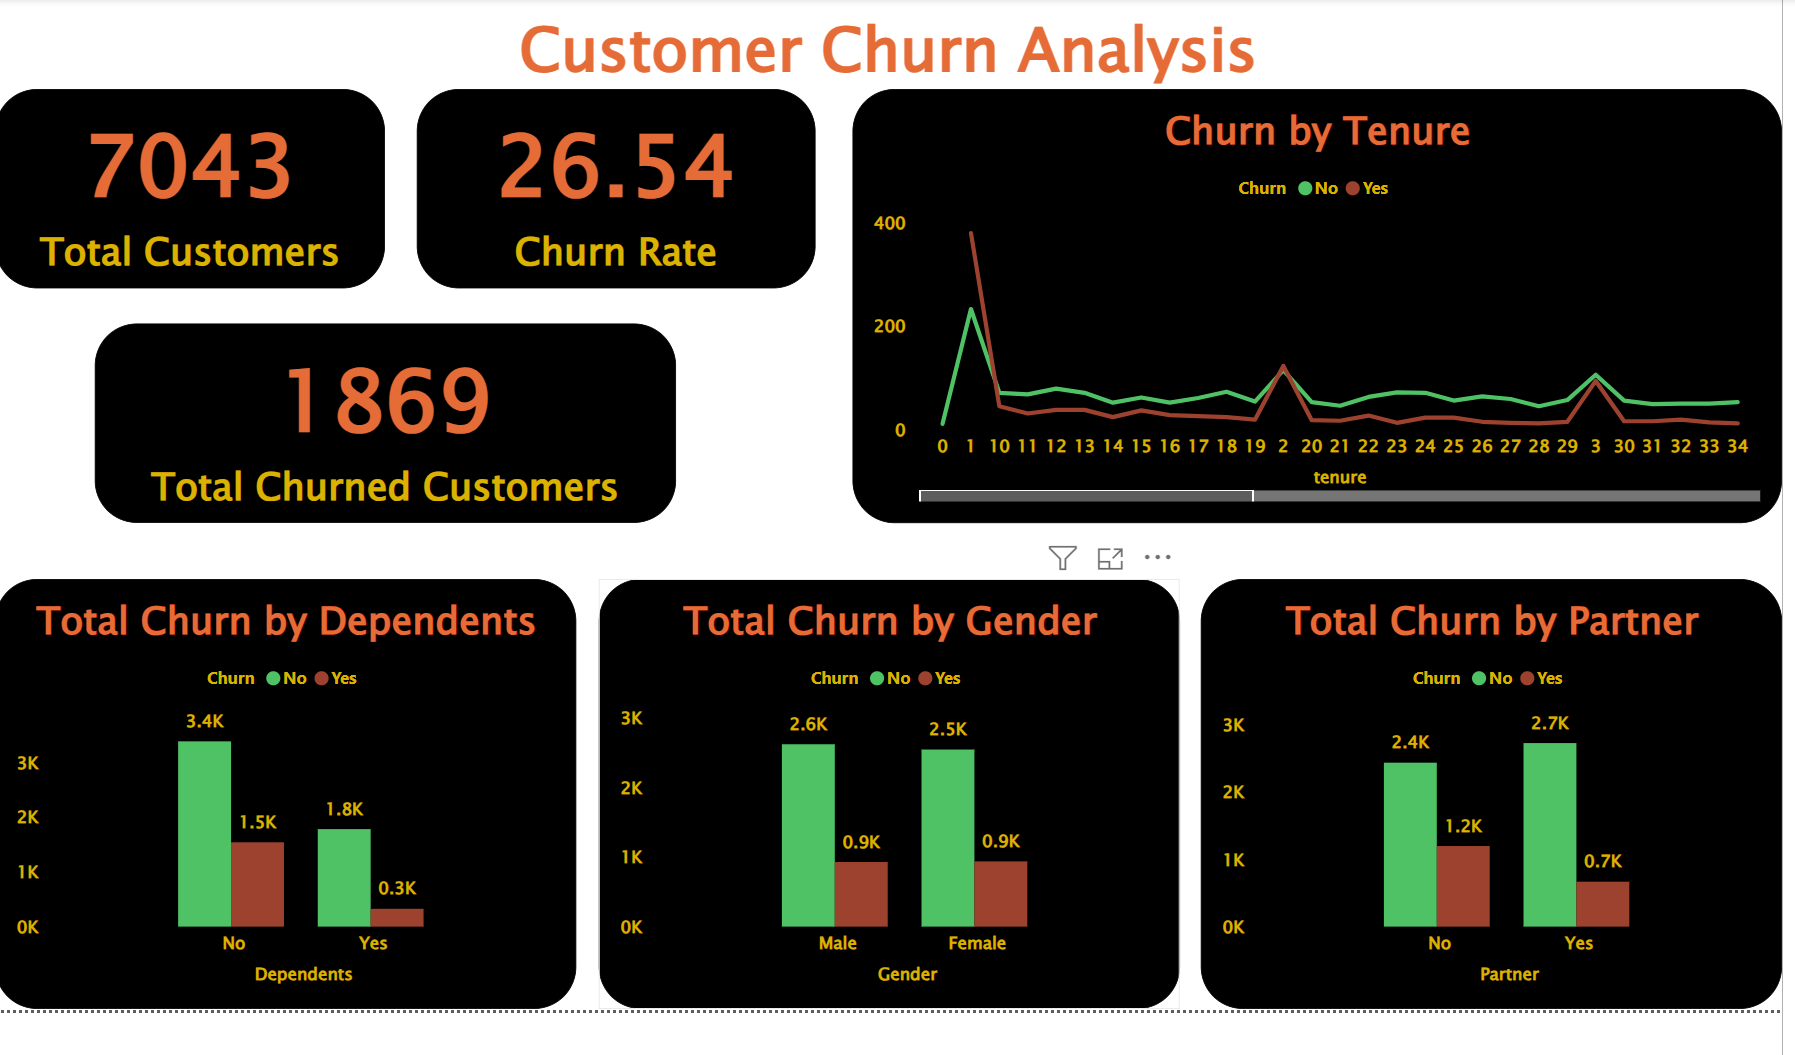

Layout of this report page (visuals, bound fields, positions):
{"tool":"powerbi","page":{"name":"Page 1","canvas":[1280,720],"ordinal":0},"visuals":[{"type":"textbox","box":[10,0,1269.9,83.3],"z":0},{"type":"card","fields":{"Values":["CountNonNull(Cutomer_churn_analysis.Customer ID)"]},"box":[10,64.7,277.4,141.8],"z":1000},{"type":"card","fields":{"Values":["CountNonNull(Cutomer_churn_analysis.Churn)"]},"box":[80.8,231.3,412.9,141.8],"z":2000},{"type":"card","fields":{"Values":["Cutomer_churn_analysis.Churn_rate"]},"box":[309.7,64.7,283.6,141.8],"z":3000},{"type":"clusteredColumnChart","title":"Total Churn by Dependents","fields":{"Category":["Cutomer_churn_analysis.Dependents"],"Y":["CountNonNull(Cutomer_churn_analysis.Churn)"],"Series":["Cutomer_churn_analysis.Churn"]},"box":[10.4,413.2,413.2,306.2],"z":4000},{"type":"clusteredColumnChart","title":"Total Churn by Gender","fields":{"Y":["CountNonNull(Cutomer_churn_analysis.Churn)"],"Series":["Cutomer_churn_analysis.Churn"],"Category":["Cutomer_churn_analysis.gender"]},"box":[438.5,413.2,413.2,306.2],"z":5000},{"type":"clusteredColumnChart","title":"Total Churn by Partner","fields":{"Y":["CountNonNull(Cutomer_churn_analysis.Churn)"],"Series":["Cutomer_churn_analysis.Churn"],"Category":["Cutomer_churn_analysis.Partner"]},"box":[866.6,413.2,413.2,306.2],"z":6000},{"type":"lineChart","title":"Churn by Tenure","fields":{"Category":["Cutomer_churn_analysis.tenure"],"Y":["CountNonNull(Cutomer_churn_analysis.Churn)"],"Series":["Cutomer_churn_analysis.Churn"]},"box":[619.4,64.7,660.4,308.5],"z":7000}]}

Visuals, with their boxes on the page's 1280x720 design canvas (x1, y1, x2, y2). These are canvas units, not pixel positions in the 1795x1055 screenshot, which may show the page scaled, cropped or inside an application window:
textbox: x1=10, y1=0, x2=1280, y2=83
card - CountNonNull(Cutomer_churn_analysis.Customer ID): x1=10, y1=65, x2=287, y2=206
card - CountNonNull(Cutomer_churn_analysis.Churn): x1=81, y1=231, x2=494, y2=373
card - Cutomer_churn_analysis.Churn_rate: x1=310, y1=65, x2=593, y2=206
"Total Churn by Dependents" clusteredColumnChart: x1=10, y1=413, x2=424, y2=719
"Total Churn by Gender" clusteredColumnChart: x1=438, y1=413, x2=852, y2=719
"Total Churn by Partner" clusteredColumnChart: x1=867, y1=413, x2=1280, y2=719
"Churn by Tenure" lineChart: x1=619, y1=65, x2=1280, y2=373
